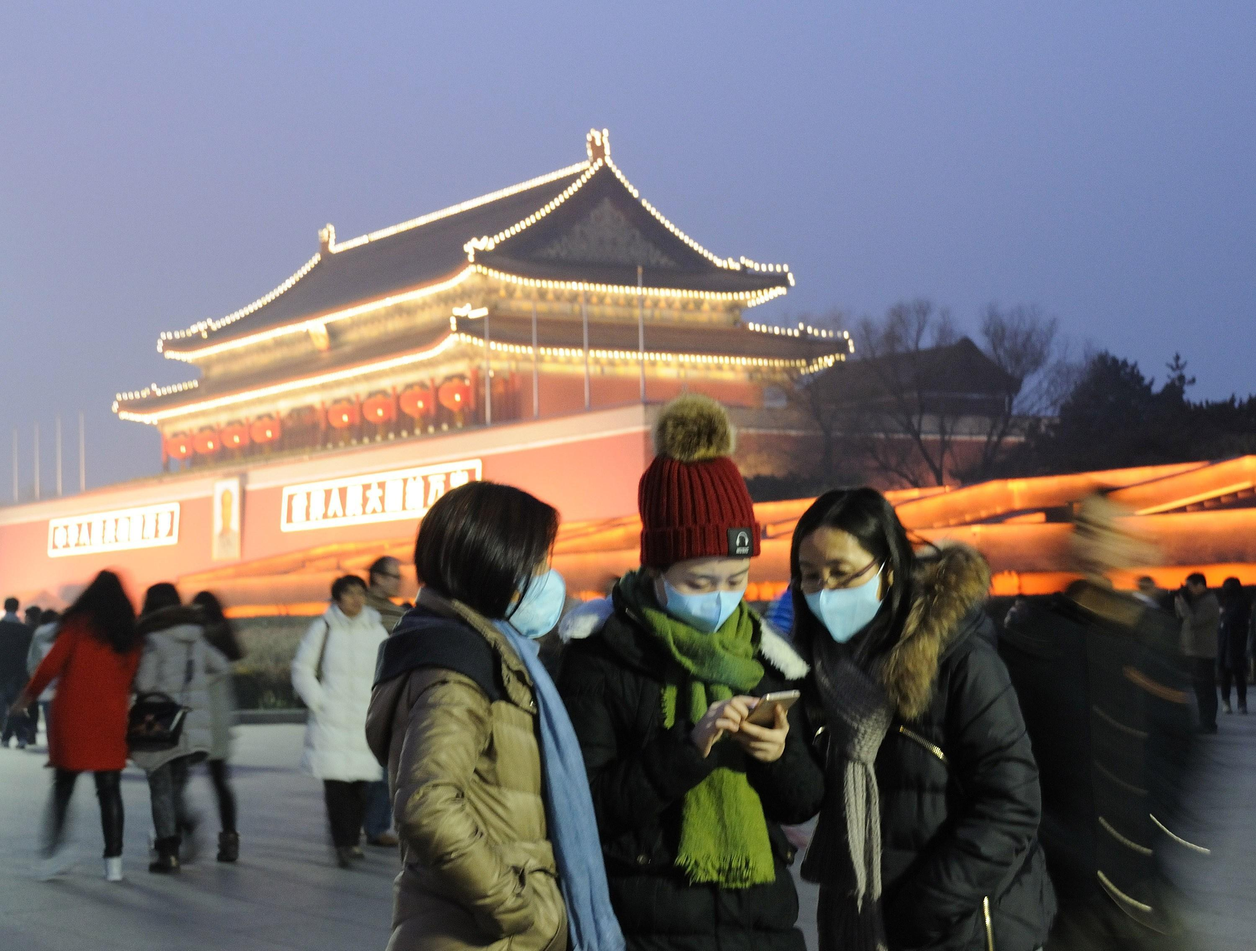OK: (793, 553, 883, 643), (483, 543, 564, 636), (679, 559, 758, 638)
